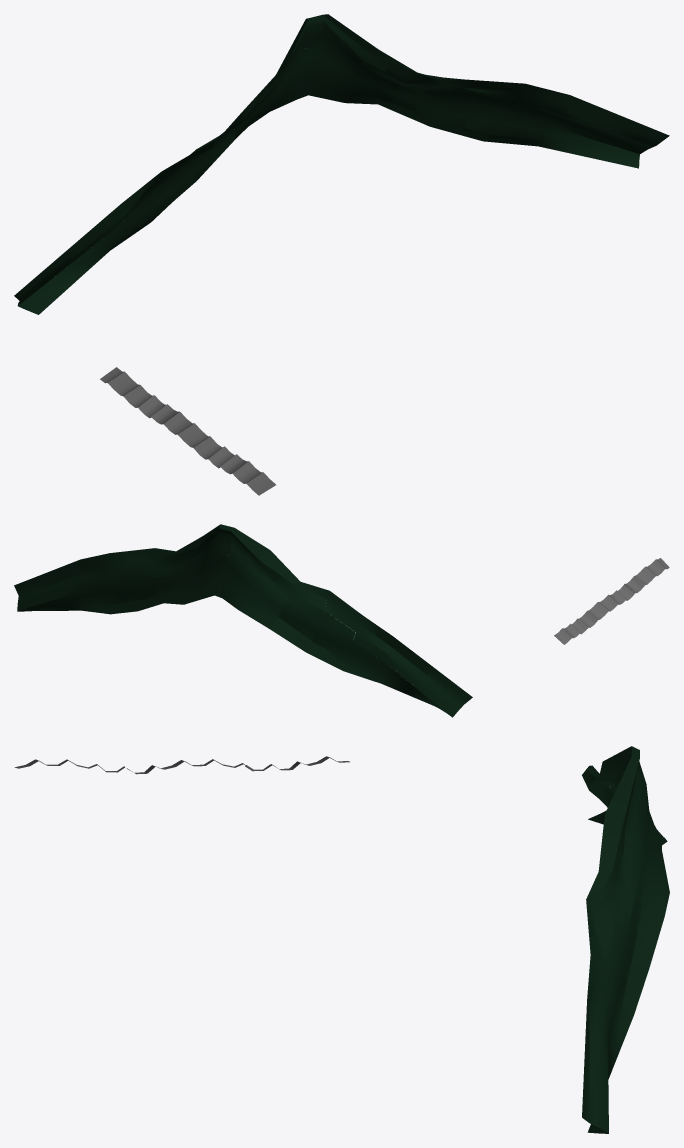
File: particleMesh.fbx
3 renders of one model, top to bottom at view 1: azimuth 30°, elevation 25°; view 2: azimuth 150°, elevation 25°; view 3: azimuth 270°, elevation 25°, orthographic. The views are drawn at different scales.
Visible parts, largest first — view 1: particlemesh; view 2: particlemesh; view 3: particlemesh.
Part boxes in pixels (box(x1,y1,x2,y2)): particlemesh: box(14, 14, 669, 495); particlemesh: box(14, 524, 669, 717); particlemesh: box(14, 746, 669, 1133).
Size of the model in its own units: 702 by 207 by 549.
